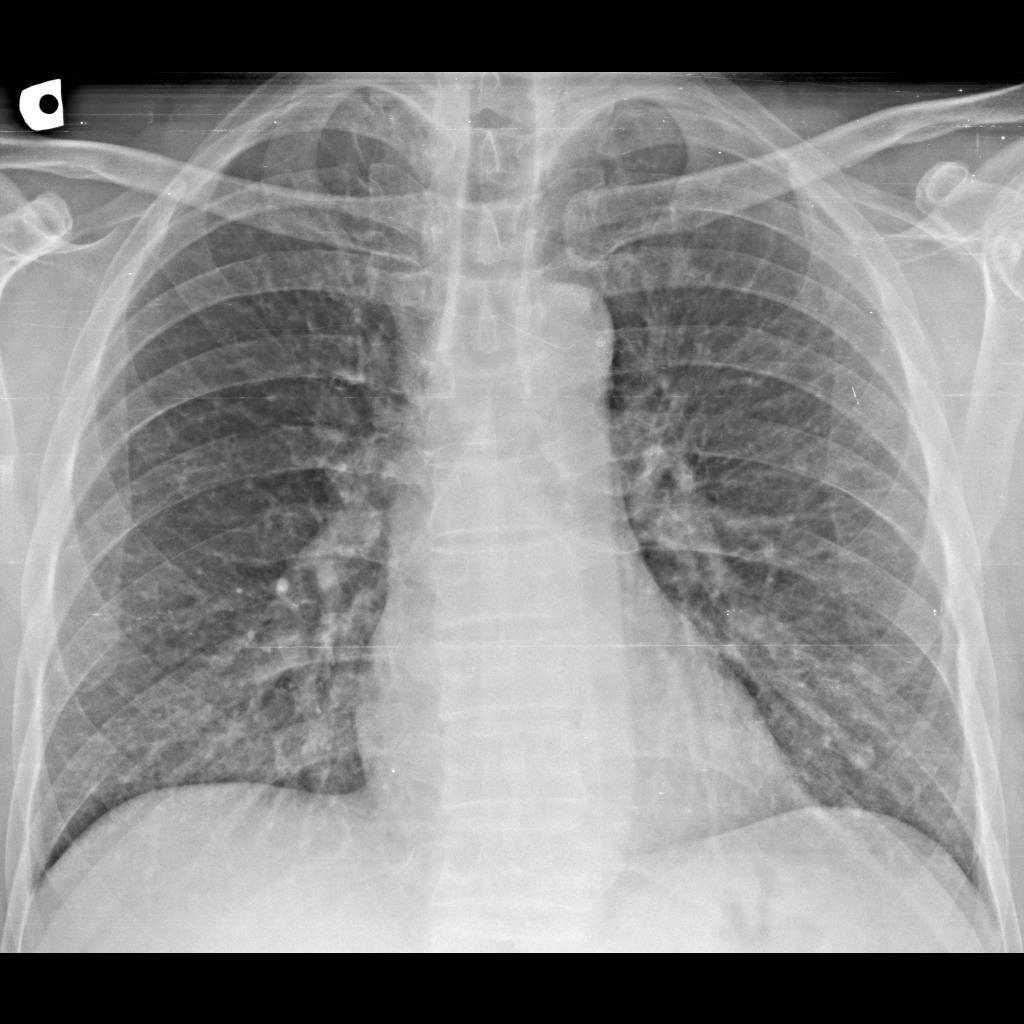Nodule: (834, 732, 893, 786)
